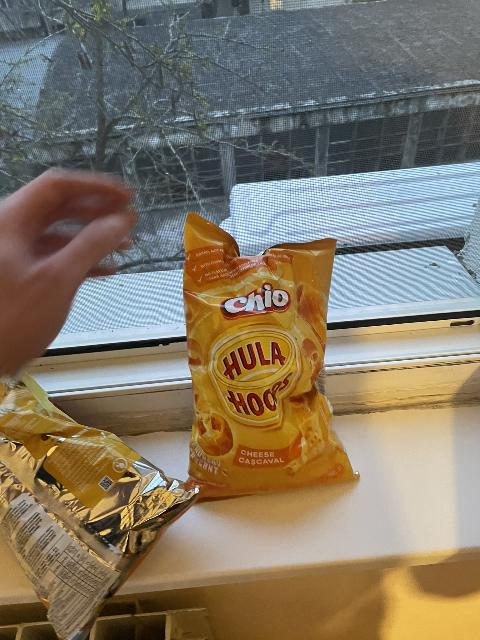Chio Cascaval 125g: (0, 372, 198, 640)
Chio Hula Hoops Cheese 70g: (177, 214, 359, 496)
